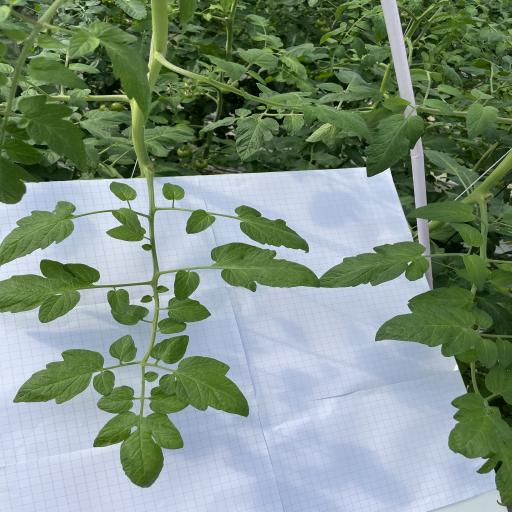Healthy: (447, 392, 512, 507), (93, 411, 184, 488), (90, 21, 151, 127), (0, 259, 100, 323), (376, 302, 480, 357), (16, 95, 89, 173), (210, 242, 320, 293), (160, 356, 250, 418), (319, 242, 429, 288), (0, 200, 76, 266), (13, 349, 104, 404), (366, 113, 424, 178), (234, 206, 310, 254), (300, 103, 374, 147), (234, 116, 280, 162), (27, 56, 90, 89), (0, 155, 39, 205), (408, 286, 475, 312), (407, 201, 475, 223), (465, 103, 500, 141), (318, 84, 384, 102), (484, 363, 512, 405), (150, 335, 190, 364), (149, 386, 190, 414), (423, 148, 463, 176), (206, 54, 246, 82), (168, 297, 211, 323), (3, 138, 44, 165), (96, 385, 134, 414), (80, 109, 132, 129), (334, 68, 374, 93), (69, 29, 101, 59), (237, 47, 279, 69), (267, 91, 313, 111), (464, 254, 487, 292), (144, 126, 198, 142), (450, 222, 484, 247), (108, 334, 138, 362), (111, 304, 149, 326), (334, 0, 371, 22), (173, 270, 200, 300), (112, 207, 142, 234), (279, 55, 308, 82), (357, 49, 391, 72), (186, 209, 216, 235), (114, 0, 148, 21), (106, 225, 146, 242), (476, 338, 498, 368), (107, 288, 130, 316), (441, 59, 463, 88), (320, 22, 347, 45), (199, 116, 235, 133), (423, 98, 456, 116), (109, 181, 137, 201), (93, 370, 115, 395), (370, 11, 387, 43), (284, 114, 305, 137), (472, 305, 492, 329), (496, 338, 512, 368), (282, 43, 316, 57), (37, 34, 68, 49), (158, 318, 187, 334), (162, 182, 185, 201), (381, 98, 411, 112), (437, 84, 465, 99), (84, 124, 112, 139), (145, 141, 169, 157), (68, 63, 102, 74), (490, 269, 512, 286), (455, 348, 478, 363), (244, 14, 270, 27), (70, 88, 91, 104), (351, 37, 366, 59), (85, 148, 100, 170), (107, 154, 136, 165), (248, 70, 267, 86), (471, 88, 495, 100), (316, 82, 344, 92), (462, 44, 482, 58), (488, 31, 511, 43), (429, 22, 452, 34), (408, 0, 424, 17), (459, 66, 486, 75), (103, 136, 129, 145), (256, 83, 272, 95), (496, 41, 509, 54), (356, 21, 372, 31), (0, 62, 14, 73), (60, 14, 72, 26), (235, 108, 252, 116), (336, 46, 345, 60), (420, 50, 430, 62), (70, 112, 82, 121), (85, 0, 101, 6)
